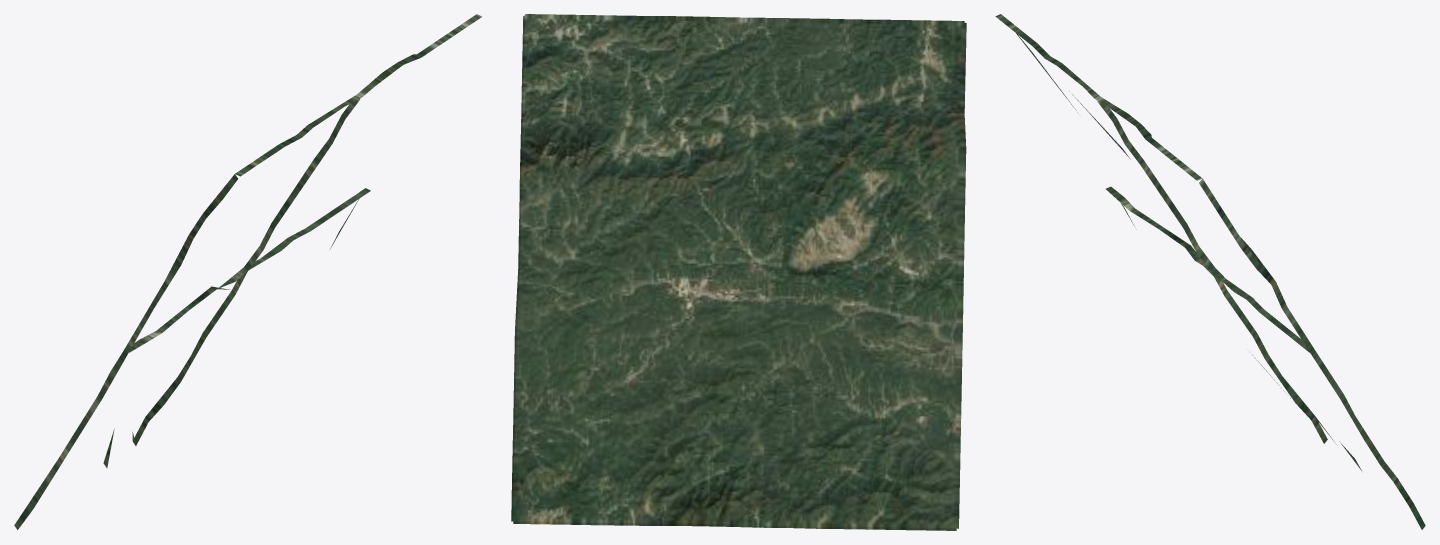
3 views of the same model, side by side, from view 1: azimuth 30°, elevation 25°; view 2: azimuth 150°, elevation 25°; view 3: azimuth 270°, elevation 25° (orthographic). The views are drawn at different scales.
Size of the model in its own units: 79251 by 68946 by 66891.
1 material, 1 textured.
